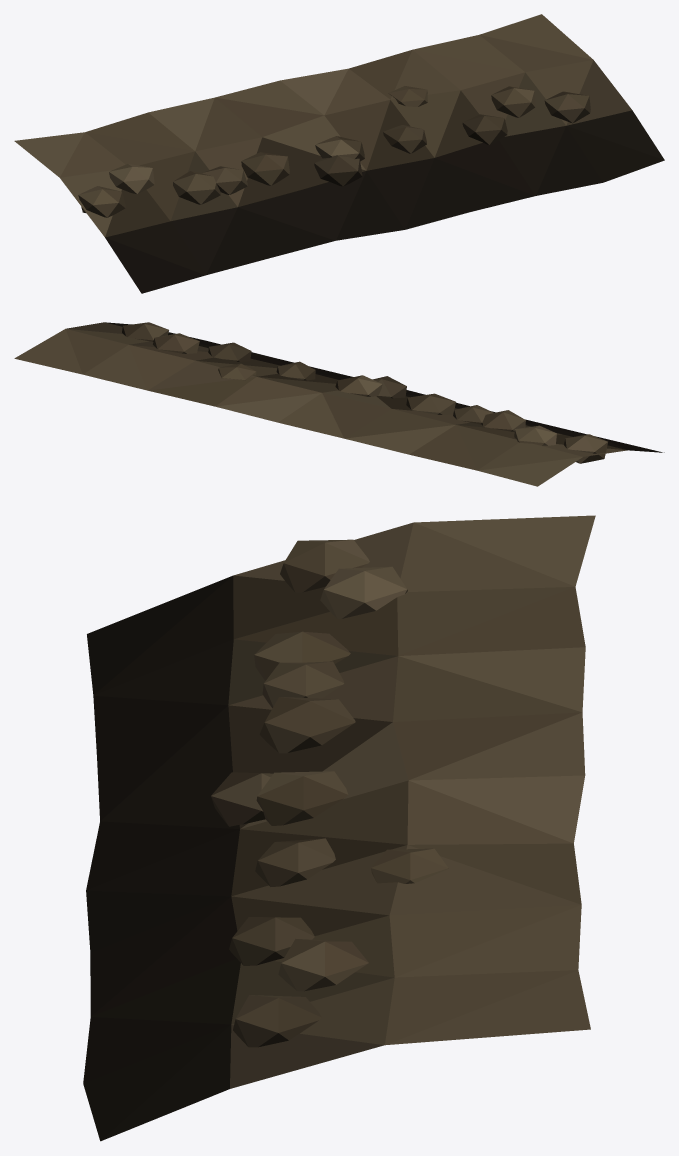
File: bank_stone_lip_8m.glb
The picture shows the model from 3 angles, top to bottom: view 1: azimuth 30°, elevation 25°; view 2: azimuth 150°, elevation 25°; view 3: azimuth 270°, elevation 25°; orthographic projection. The views are drawn at different scales.
Parts seen in each view (by area): view 1: bank_stone_lip_8m; view 2: bank_stone_lip_8m; view 3: bank_stone_lip_8m.
Part boxes in pixels (x1=…): bank_stone_lip_8m: x1=14, y1=14, x2=664, y2=293; bank_stone_lip_8m: x1=14, y1=322, x2=664, y2=486; bank_stone_lip_8m: x1=83, y1=515, x2=595, y2=1141.
Bounding box in the file's own units: 8 × 0.8977 × 3.38.
